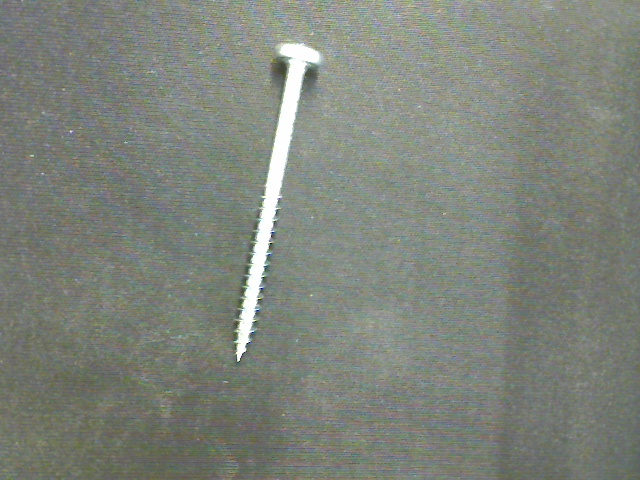Screw: (233, 43, 322, 362)
